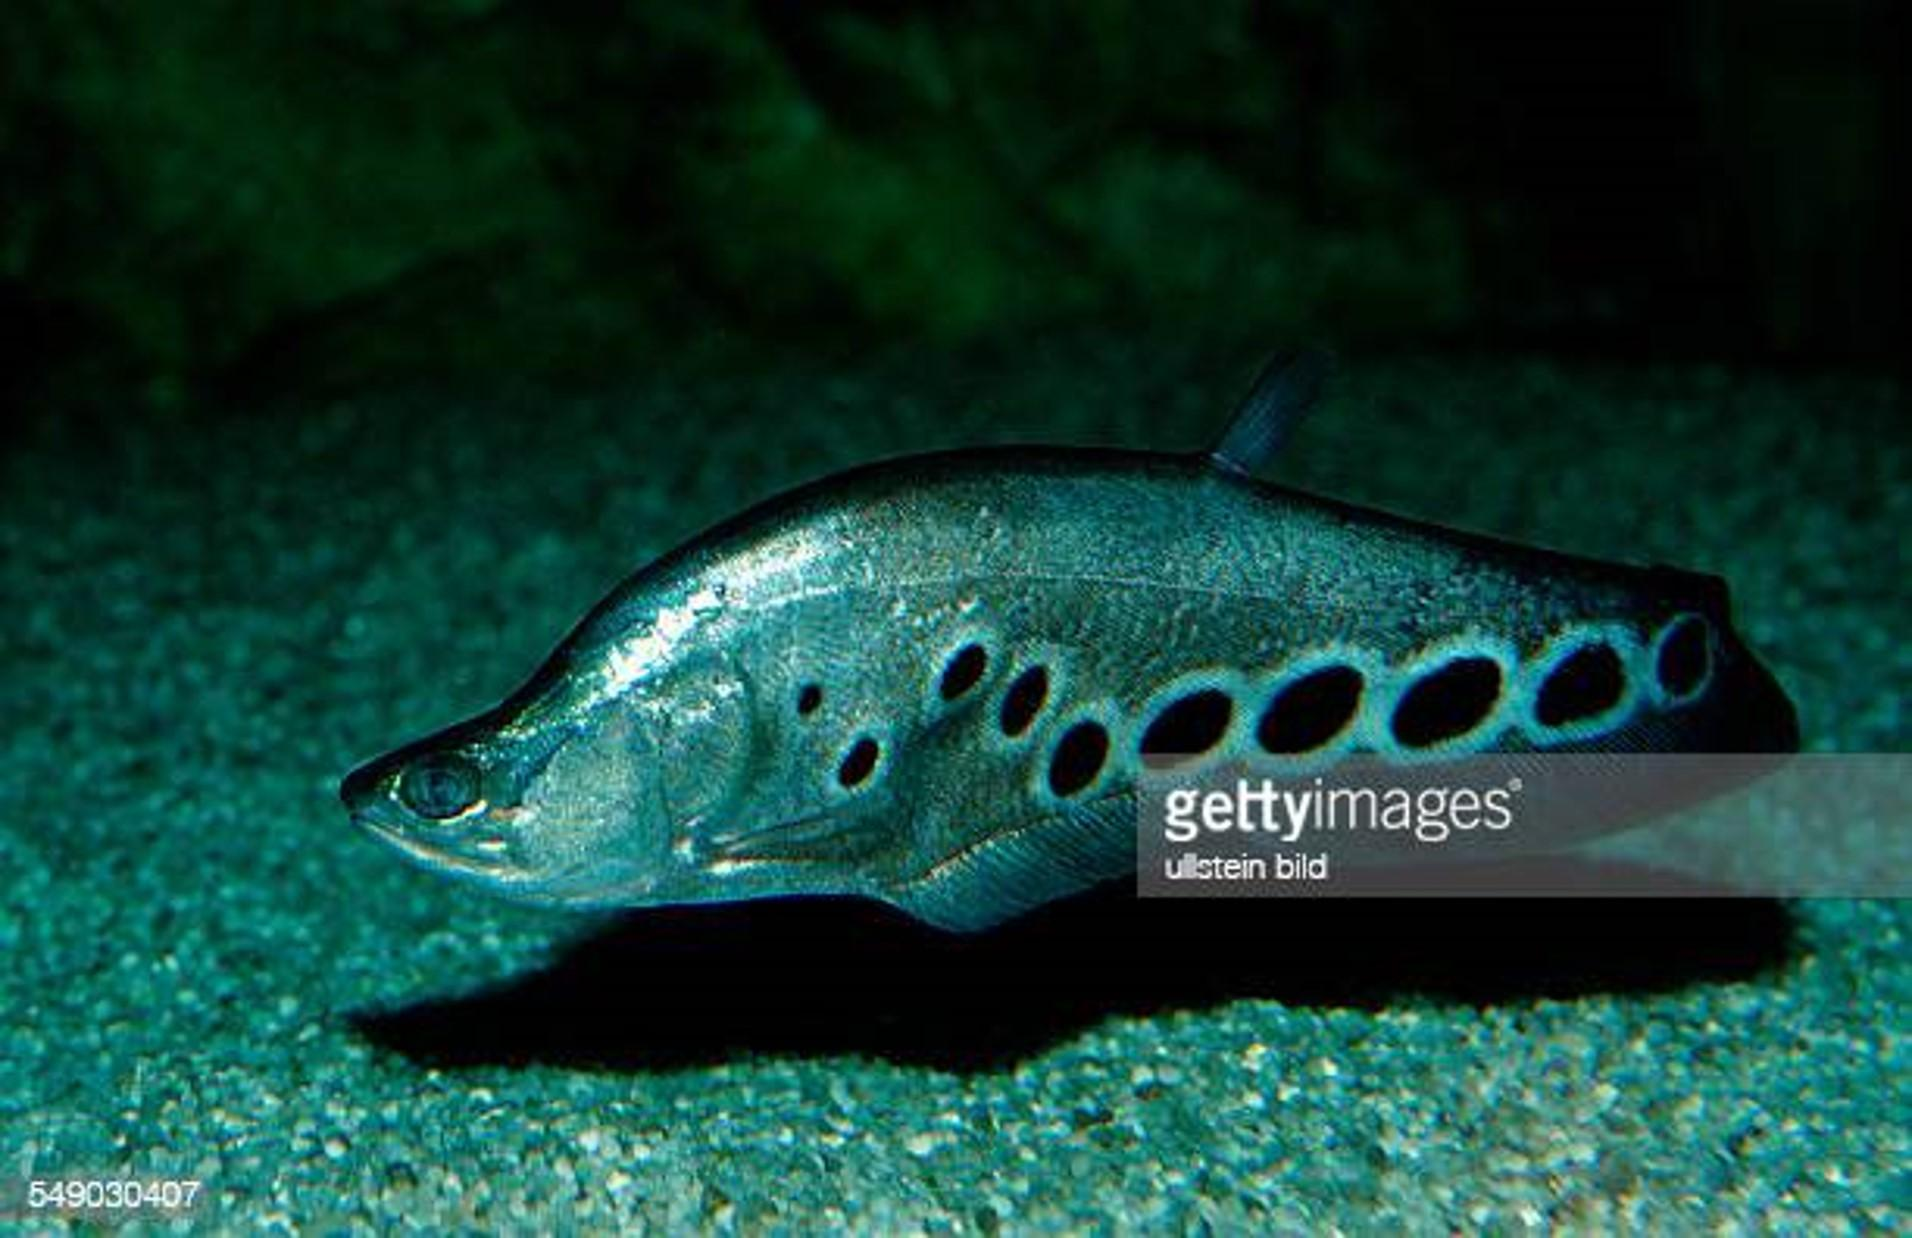Knifefish: (318, 360, 1826, 951)
